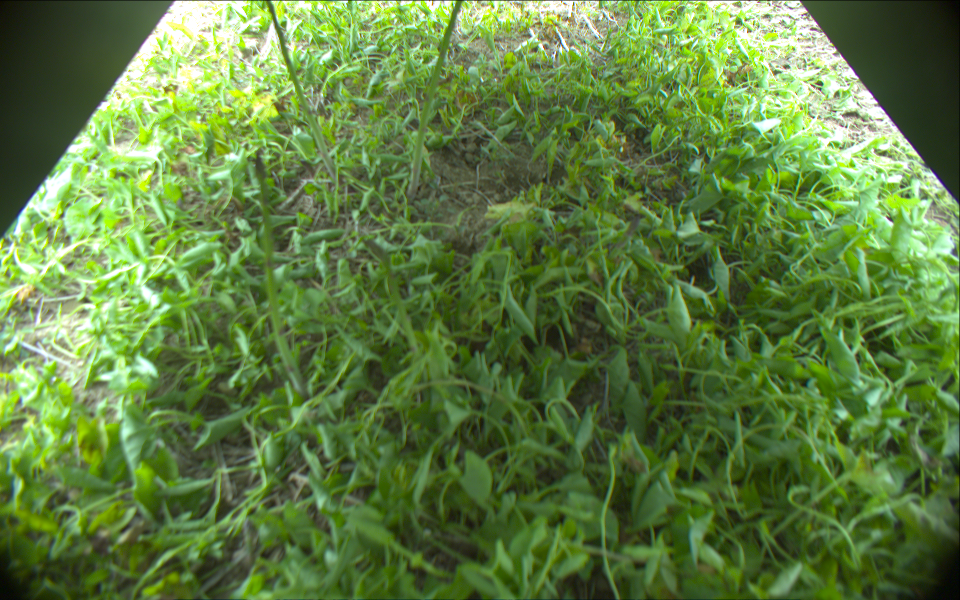aspa: (263, 1, 338, 177), (254, 153, 308, 397), (406, 1, 462, 195)
